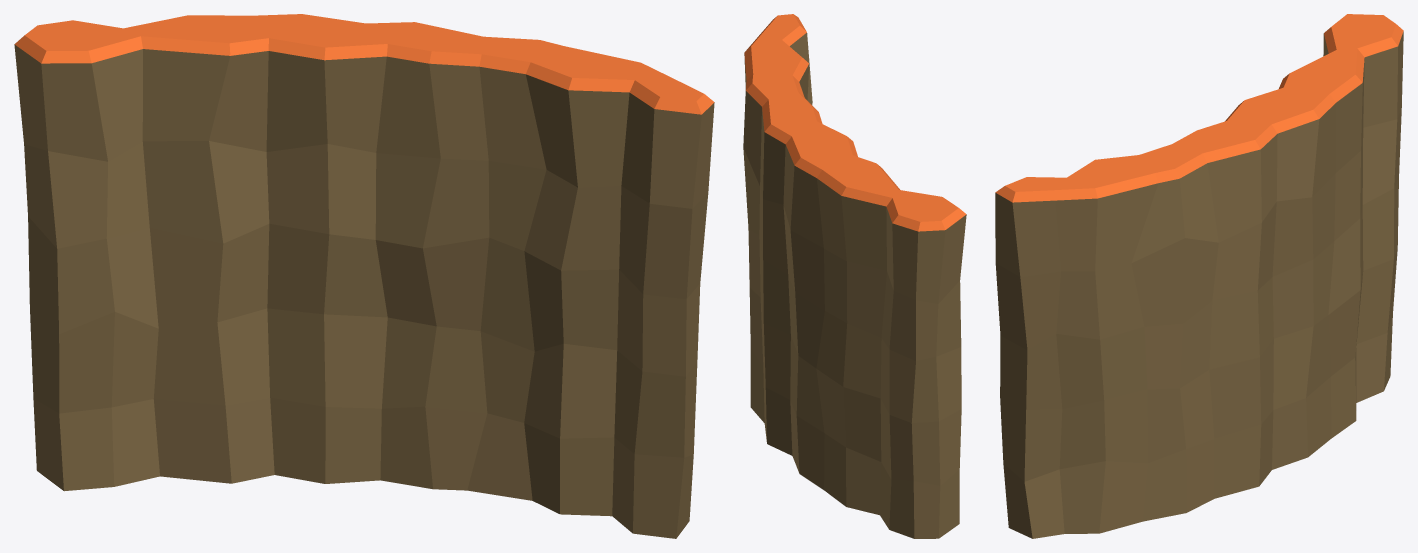
File: AutumnCliff.fbx
The picture shows the model from 3 angles, left to right: view 1: azimuth 30°, elevation 25°; view 2: azimuth 150°, elevation 25°; view 3: azimuth 270°, elevation 25°; orthographic projection. The views are drawn at different scales.
Parts seen in each view (by area): view 1: Morro.004; view 2: Morro.004; view 3: Morro.004.
Part boxes in pixels (x1,y1,x2,y2): Morro.004: (14, 14, 714, 538); Morro.004: (743, 14, 966, 538); Morro.004: (995, 14, 1403, 538).
Size of the model in its own units: 900 by 802 by 848.
